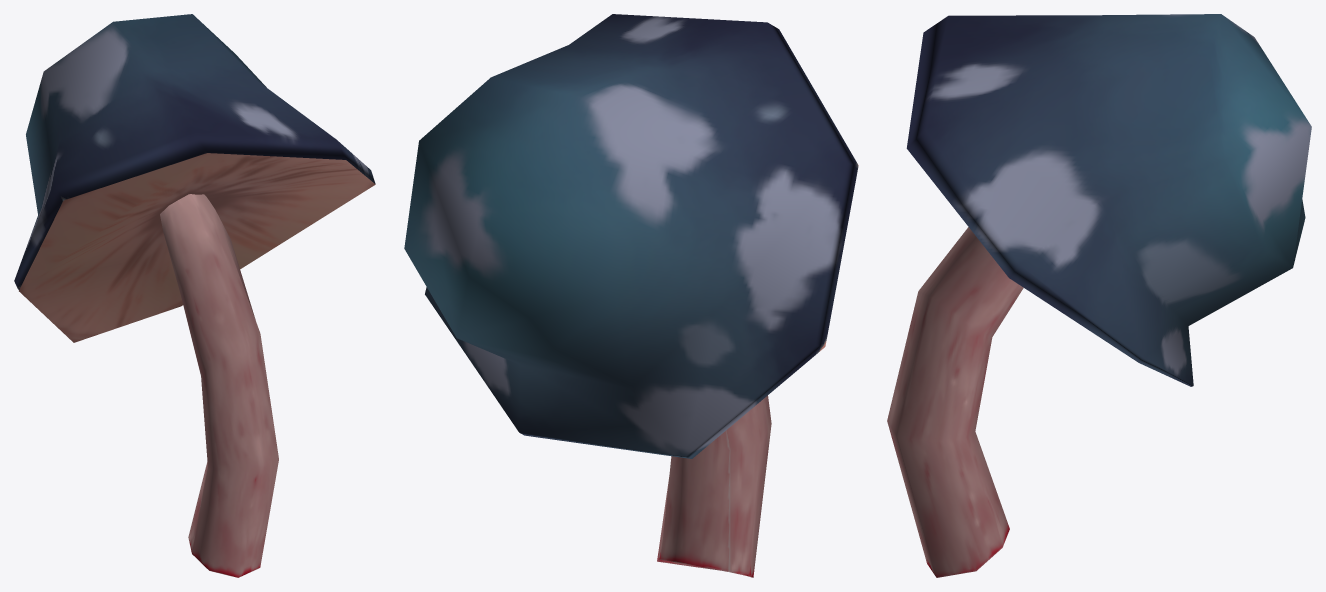
Rendered from PROP_BendShroom_4.fbx.
3 renders of one model, left to right at view 1: azimuth 30°, elevation 25°; view 2: azimuth 150°, elevation 25°; view 3: azimuth 270°, elevation 25°, orthographic. The views are drawn at different scales.
Visible parts, largest first — view 1: PROP_BendShroom_4; view 2: PROP_BendShroom_4; view 3: PROP_BendShroom_4.
Boxes of the visible parts, x1,y1,x2,y2 form: PROP_BendShroom_4: (14,14,375,577); PROP_BendShroom_4: (404,14,858,577); PROP_BendShroom_4: (887,14,1311,577).
Size of the model in its own units: 180 by 252 by 176.
Materials: 1 (1 with a texture image).
